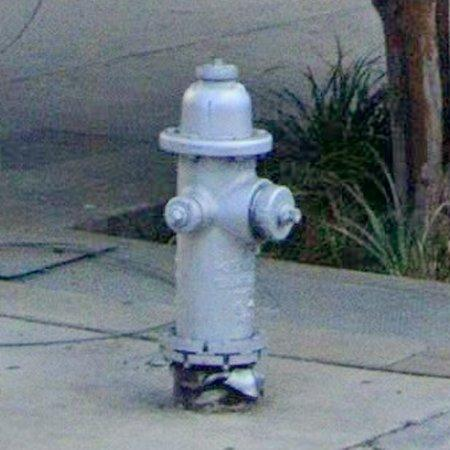a fire hydrant: (160, 60, 302, 406)
